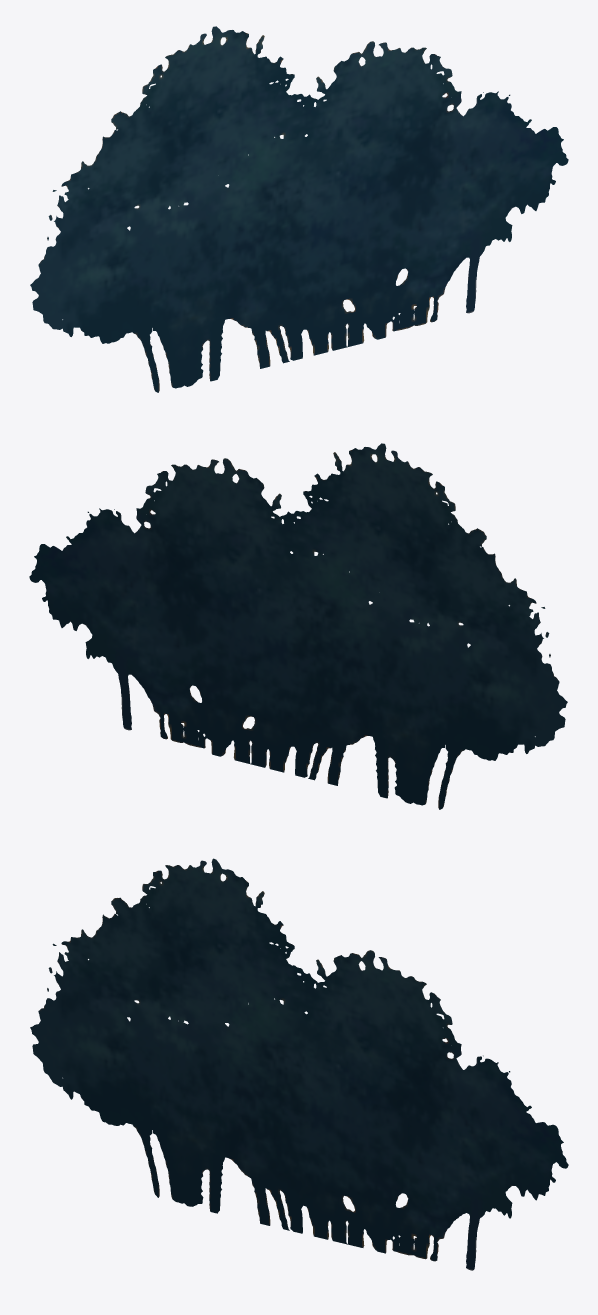
Rendered from HuBian_NightShu5_fbx.FBX.
3 renders of one model, top to bottom at view 1: azimuth 30°, elevation 25°; view 2: azimuth 150°, elevation 25°; view 3: azimuth 330°, elevation 25°, orthographic.
Visible parts, largest first — view 1: Object041; view 2: Object041; view 3: Object041.
Part boxes in pixels (<box>): Object041: <box>30,26,568,392</box>; Object041: <box>29,443,567,809</box>; Object041: <box>30,858,568,1270</box>.
Size of the model in its own units: 3.92 by 2.41 by 5.38e-07.
Materials: 1 (1 with a texture image).
